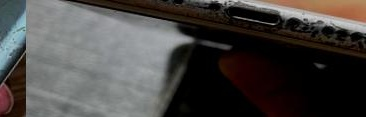scratch: (26, 0, 230, 22), (224, 0, 310, 39), (0, 0, 26, 117), (306, 8, 366, 57)
